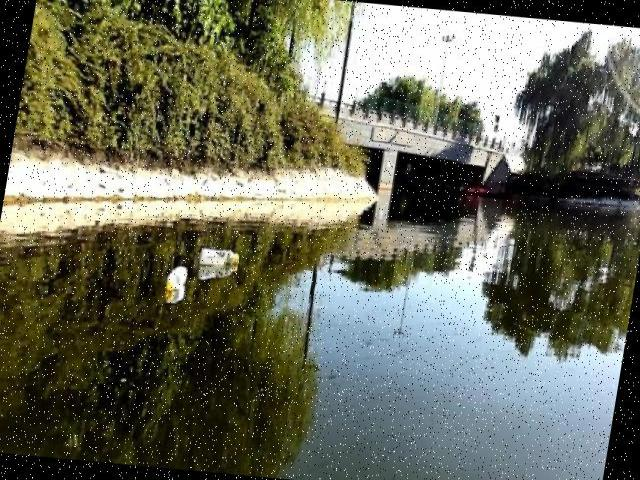Bottle: (194, 243, 247, 269), (161, 264, 192, 296)
